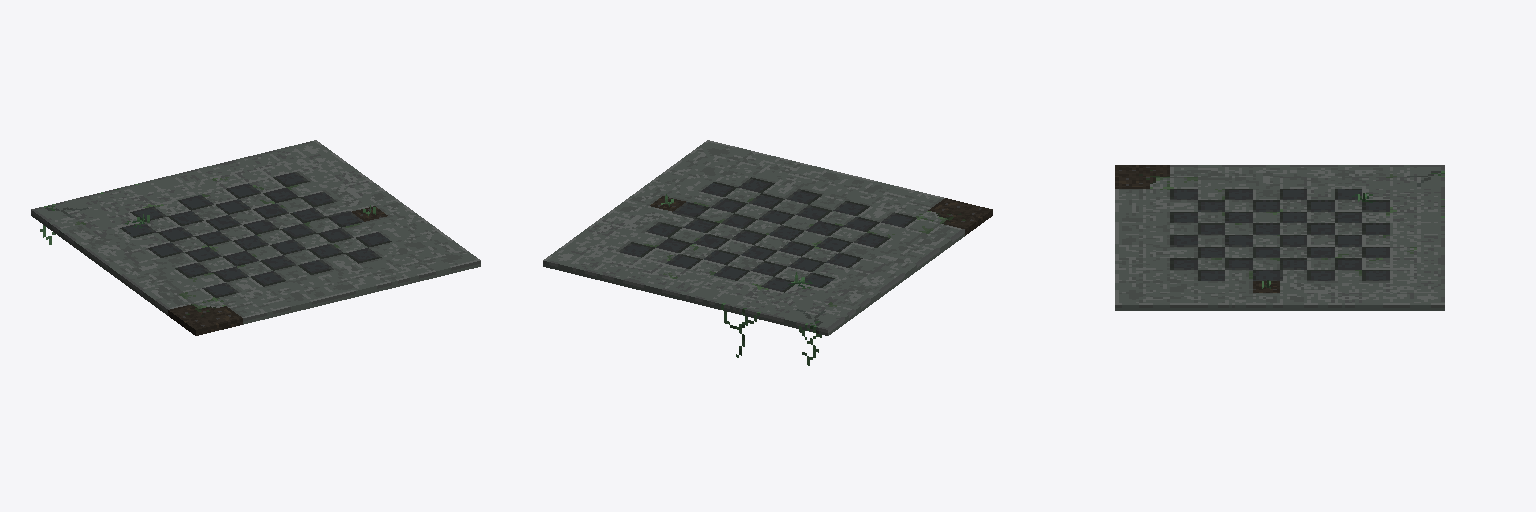
The picture shows the model from 3 angles: view 1: azimuth 30°, elevation 25°; view 2: azimuth 150°, elevation 25°; view 3: azimuth 270°, elevation 25°; orthographic projection.
Visible parts, largest first — view 1: cube; view 2: cube; view 3: cube.
Boxes of the visible parts, <box> form: cube: <box>31,140,480,335</box>; cube: <box>543,140,992,335</box>; cube: <box>1115,165,1444,310</box>.
Size of the model in its own units: 6 by 1.28 by 6.
Materials: 1 (1 with a texture image).